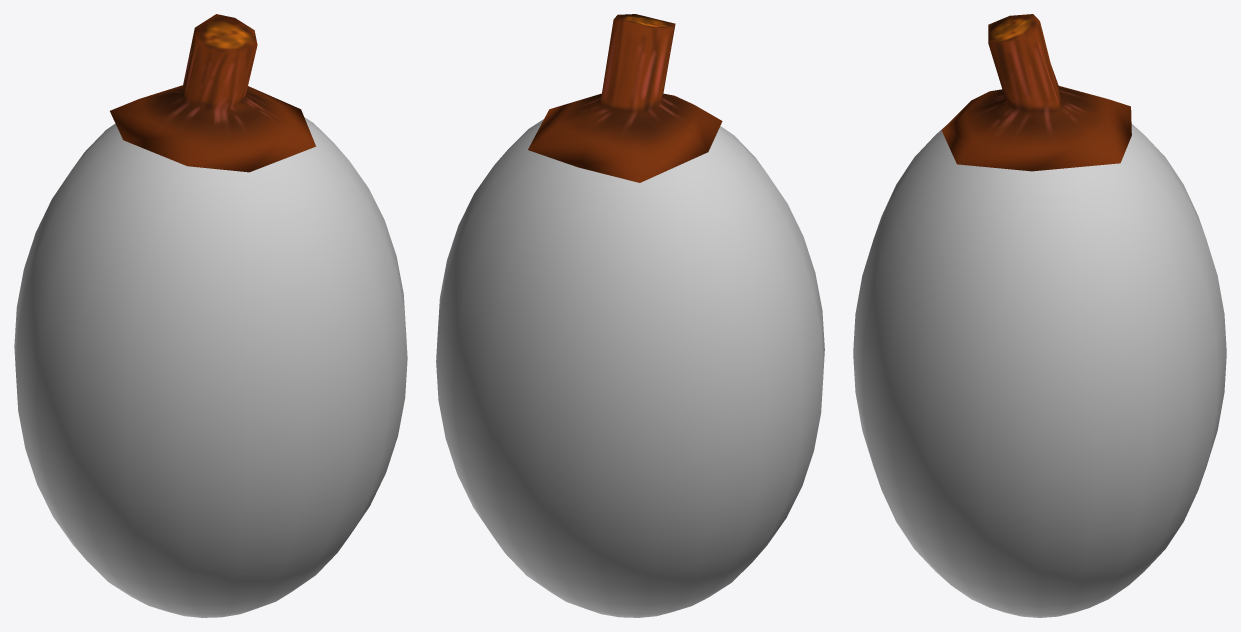
Rendered from Fruit.fbx.
3 views of the same model, side by side, from view 1: azimuth 30°, elevation 25°; view 2: azimuth 150°, elevation 25°; view 3: azimuth 270°, elevation 25° (orthographic).
Parts seen in each view (by area): view 1: Fruit_Body, Fruit_Stick; view 2: Fruit_Body, Fruit_Stick; view 3: Fruit_Body, Fruit_Stick.
Boxes of the visible parts, box(x1,y1,x2,y2) form: Fruit_Body: box(14, 117, 407, 617); Fruit_Stick: box(110, 14, 315, 172); Fruit_Body: box(436, 119, 824, 617); Fruit_Stick: box(528, 14, 722, 182); Fruit_Body: box(853, 124, 1226, 617); Fruit_Stick: box(941, 14, 1131, 171).
Bounding box in the file's own units: 31.79 × 51.31 × 29.67.
